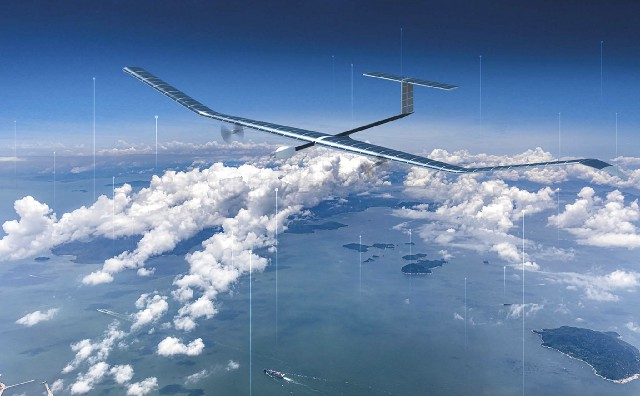maybay_khongnguoilai: (120, 66, 621, 185)
